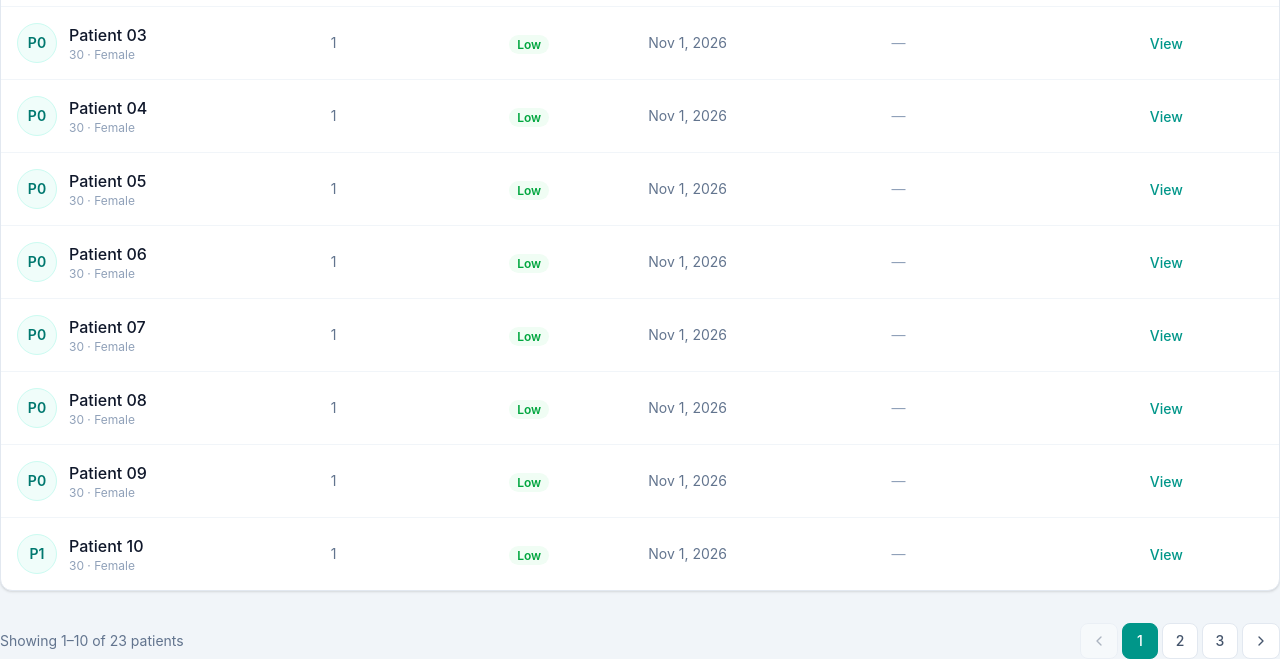
Test: PatientsPage — pages › 10 patients per page; next and page numbers move through the list
(page scrolled)
Expected: the text "Showing 1–10 of 23 patients" is shown, [0, 631, 184, 651]
Click the button named "Next page".
click(1261, 641)  # box [1242, 623, 1279, 658]
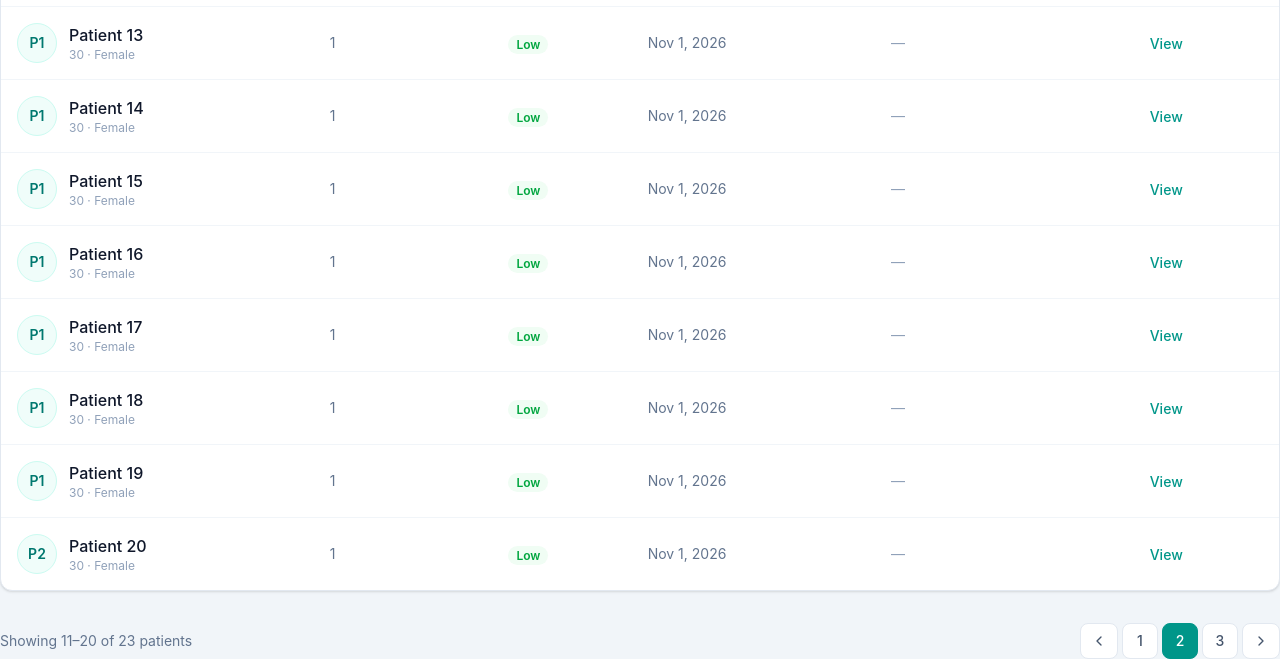
Now the text "Showing 11–20 of 23 patients" is shown, box [0, 631, 192, 651]
Click the button named "Page 3".
click(1220, 641)  # box [1202, 623, 1238, 658]
(page scrolled)
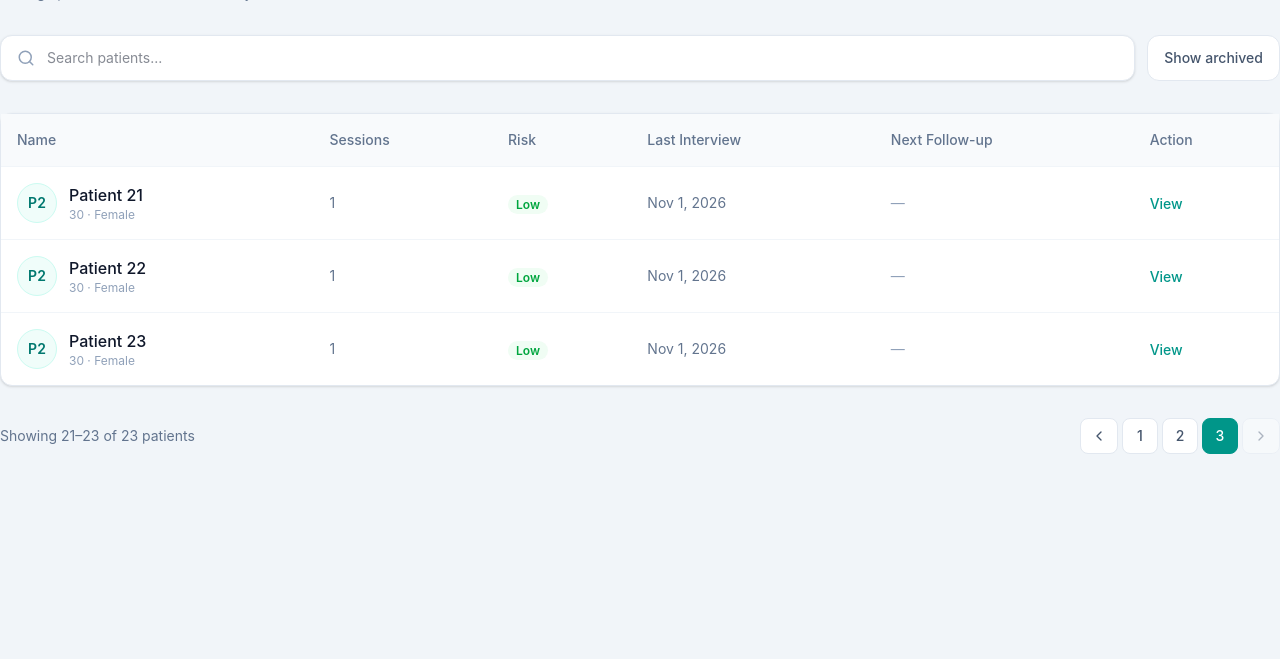
Expected: the button named "Next page" is disabled, [1242, 418, 1279, 454]
Now the text "Showing 21–23 of 23 patients" is shown, box [0, 426, 195, 446]
